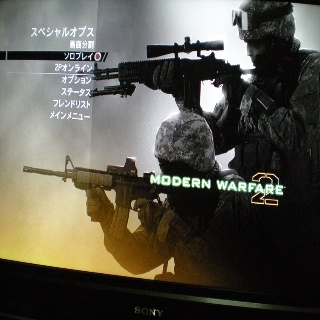rifle: (20, 155, 168, 238), (74, 36, 258, 99)
